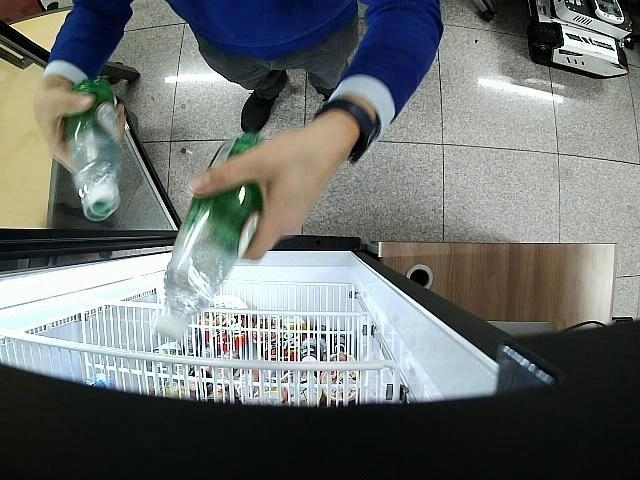18_trevi: (152, 133, 262, 338), (64, 81, 123, 222)
